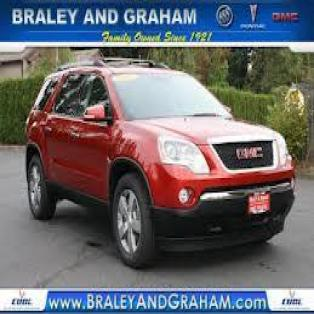Auto: (21, 61, 298, 264)
